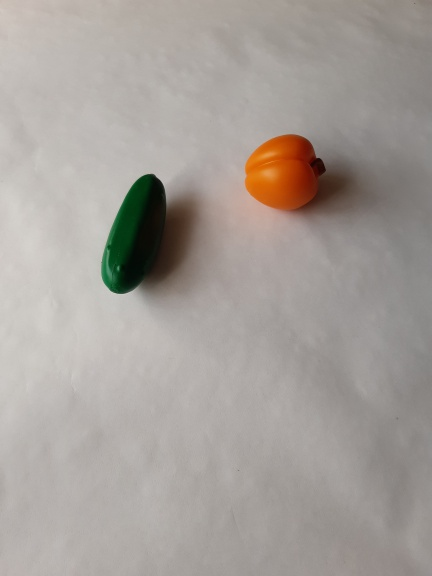apricot: (238, 127, 335, 222)
cucumber: (90, 170, 182, 310)
